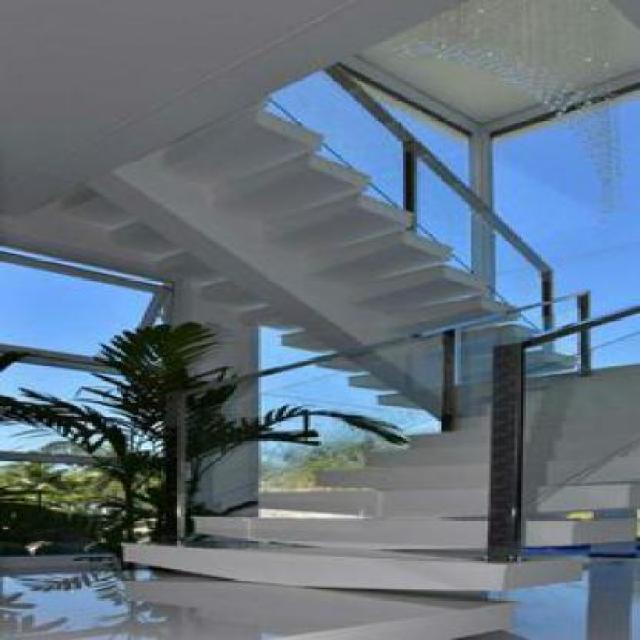stair: (125, 321, 638, 605), (82, 84, 590, 299)
